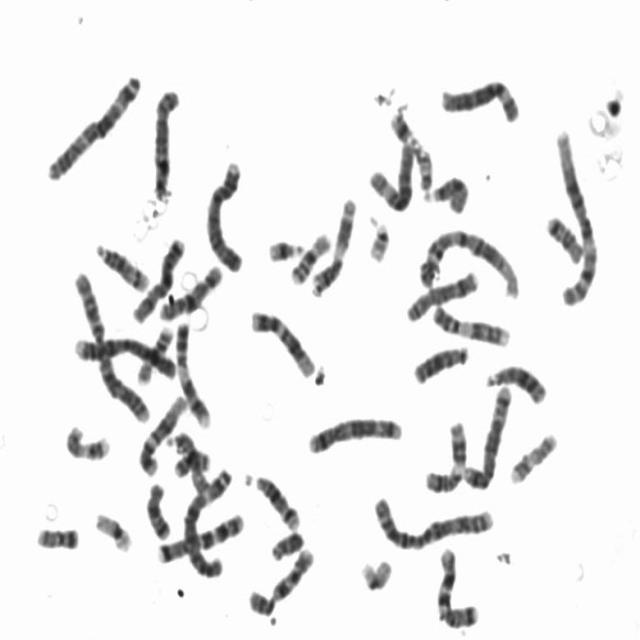A1: (550, 122, 602, 309), (416, 223, 521, 300)
A2: (70, 265, 152, 424), (369, 488, 498, 552)
A3: (42, 66, 144, 183), (179, 462, 234, 580)
B4: (70, 328, 180, 382), (203, 155, 245, 273)
B5: (459, 378, 514, 492), (304, 410, 404, 455)
C10: (245, 540, 318, 618), (155, 260, 225, 324)
C11: (307, 190, 358, 298), (421, 415, 469, 496)
C12: (247, 304, 318, 379), (134, 388, 188, 478)
C6: (437, 72, 522, 126), (364, 136, 416, 213)
C7: (153, 506, 247, 565), (432, 541, 481, 630)
C8: (401, 264, 481, 324), (148, 80, 183, 204)
C9: (170, 315, 212, 429), (427, 298, 513, 349)
D13: (482, 357, 550, 406), (410, 339, 472, 386)
D14: (92, 236, 151, 294), (249, 468, 302, 532)
D15: (163, 427, 210, 496), (420, 170, 471, 214)
E16: (133, 320, 176, 385), (287, 226, 333, 286)
E17: (506, 426, 560, 487), (62, 419, 113, 463)
E18: (542, 209, 586, 265), (142, 476, 173, 541)
F19: (90, 506, 135, 554), (357, 552, 394, 593)
F20: (33, 520, 81, 552), (170, 444, 212, 478)
G21: (386, 104, 418, 148), (264, 232, 305, 264)
G22: (364, 214, 392, 264), (413, 142, 435, 194)
X: (127, 231, 186, 325)
Y: (267, 524, 306, 562)
